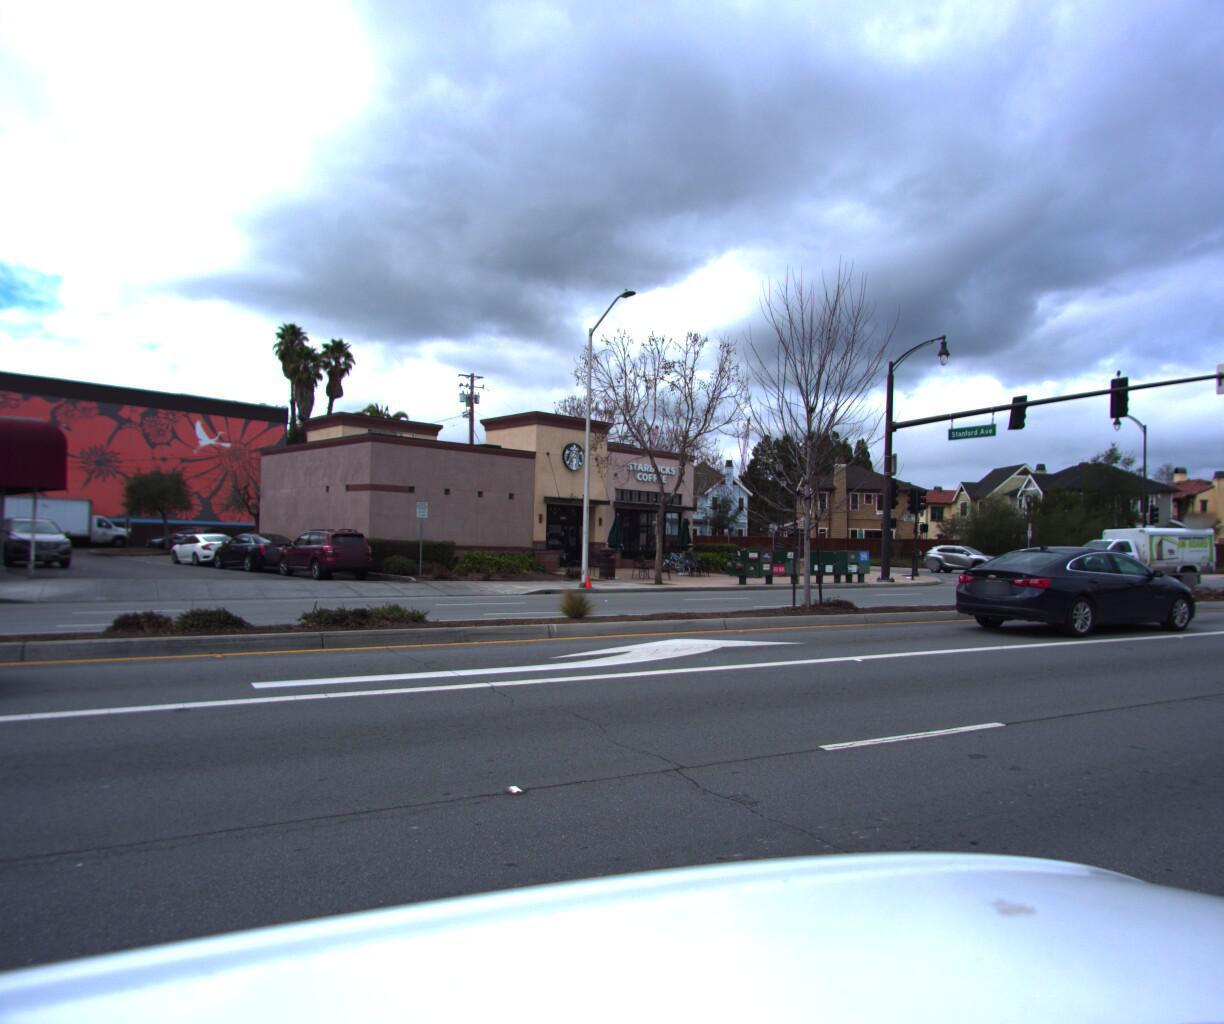car: (940, 537, 1200, 635), (0, 489, 19, 766), (272, 524, 379, 574), (211, 531, 307, 570), (917, 541, 1011, 571)
truck: (1029, 518, 1219, 584)
